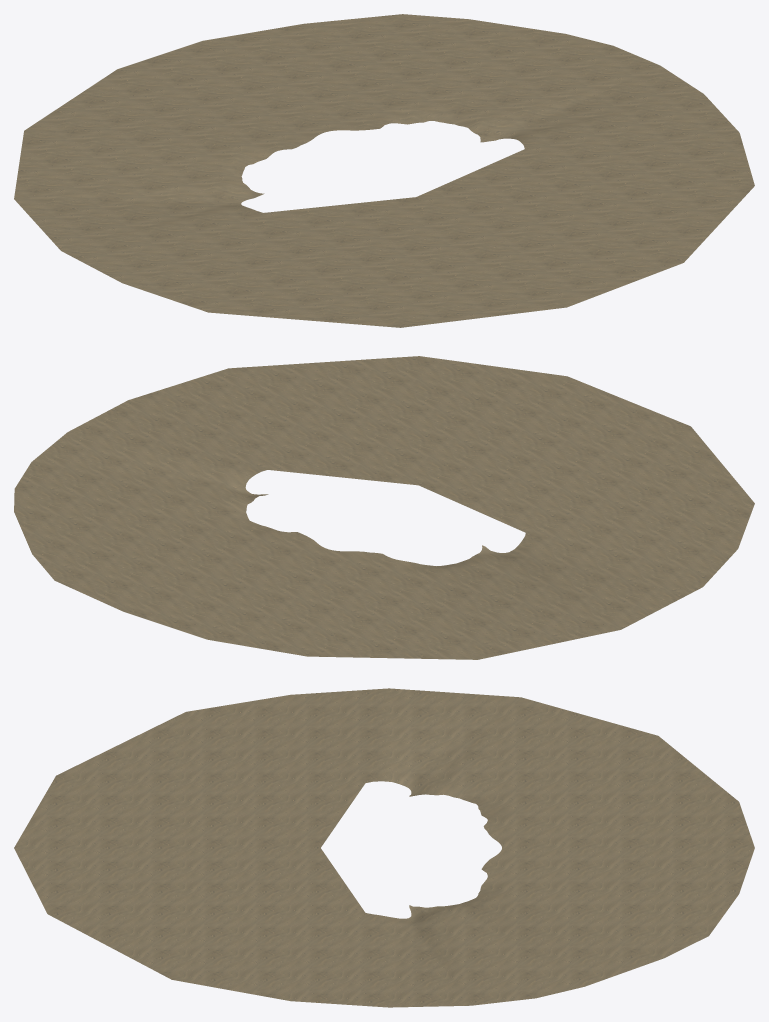
File: pref_sm_beach_tech_hunt_003_sea01_lv1.fbx
The picture shows the model from 3 angles, top to bottom: view 1: azimuth 30°, elevation 25°; view 2: azimuth 150°, elevation 25°; view 3: azimuth 270°, elevation 25°; orthographic projection. The views are drawn at different scales.
Parts seen in each view (by area): view 1: pref_sm_beach_tech_hunt_003_sea01_lv1; view 2: pref_sm_beach_tech_hunt_003_sea01_lv1; view 3: pref_sm_beach_tech_hunt_003_sea01_lv1.
Boxes of the visible parts, x1=… form: pref_sm_beach_tech_hunt_003_sea01_lv1: x1=14, y1=14, x2=754, y2=327; pref_sm_beach_tech_hunt_003_sea01_lv1: x1=14, y1=356, x2=754, y2=659; pref_sm_beach_tech_hunt_003_sea01_lv1: x1=14, y1=688, x2=754, y2=1007.
Bounding box in the file's own units: 390 × 3.68 × 383.
